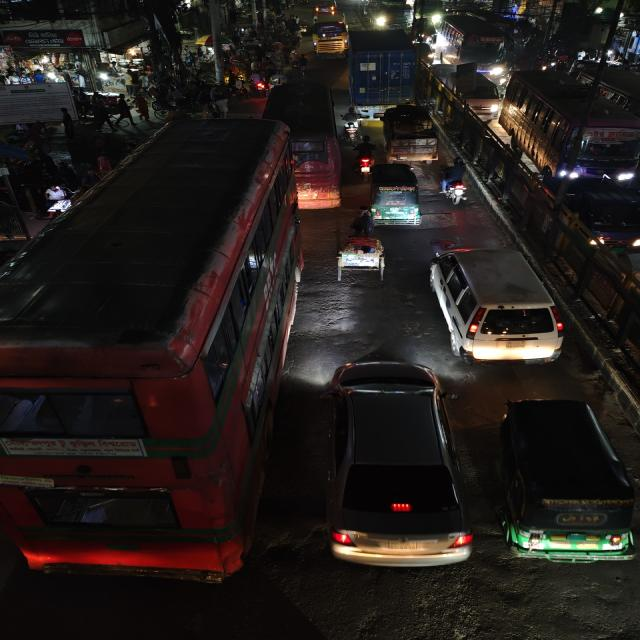bus: (0, 118, 301, 584), (512, 76, 639, 185), (263, 78, 342, 210), (440, 15, 508, 73), (598, 70, 640, 126), (310, 15, 351, 59), (367, 0, 416, 30)
car: (321, 357, 466, 570), (427, 242, 566, 368), (556, 176, 640, 254), (443, 71, 504, 121)
cng: (494, 396, 640, 566), (366, 162, 424, 228)
motorcycle: (436, 159, 479, 208), (352, 135, 378, 177), (341, 105, 364, 142)
pickup_van: (380, 104, 444, 165)
rickshaw: (327, 232, 394, 282)
truck: (345, 28, 422, 116)
